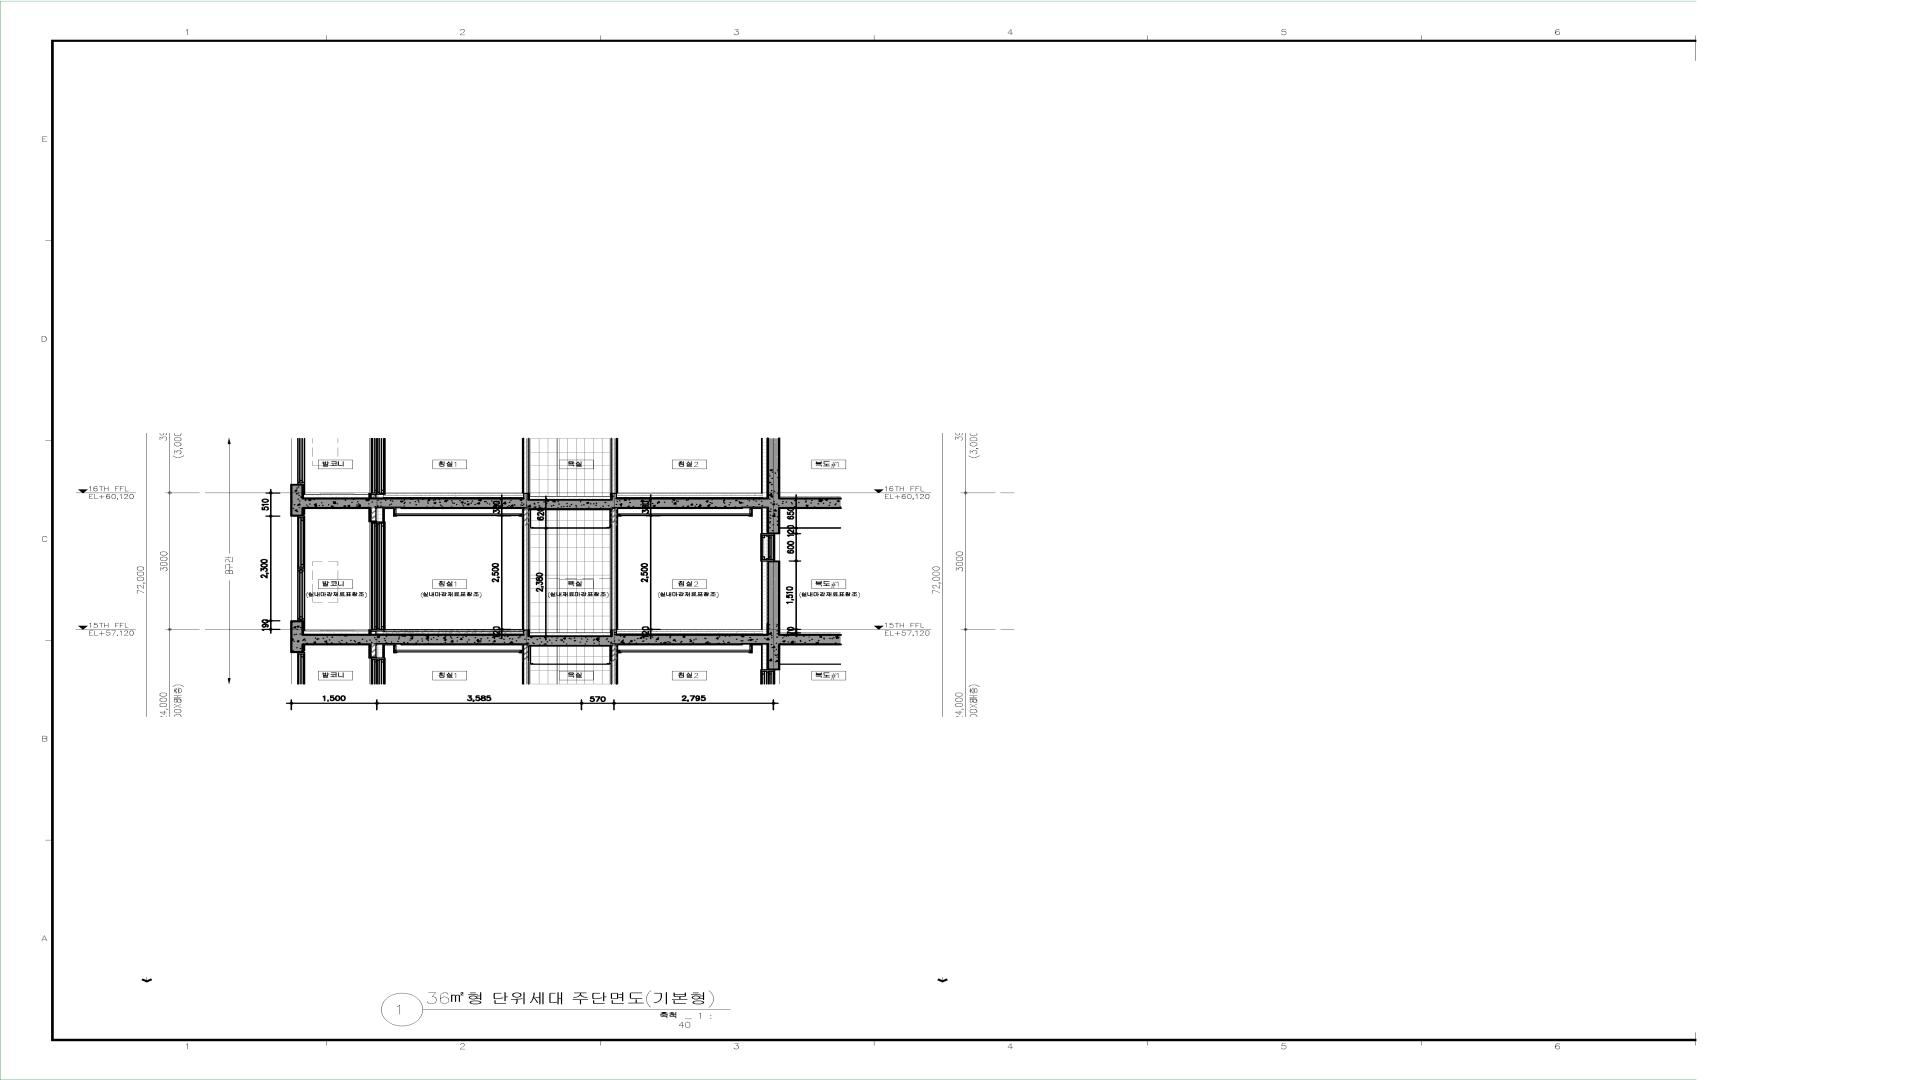background: (0, 0, 1920, 1080)
wall: (290, 561, 780, 646), (290, 484, 780, 534), (609, 509, 618, 630), (522, 509, 530, 629), (368, 509, 376, 522)
window: (369, 522, 386, 632), (291, 517, 305, 620), (760, 534, 780, 561)
